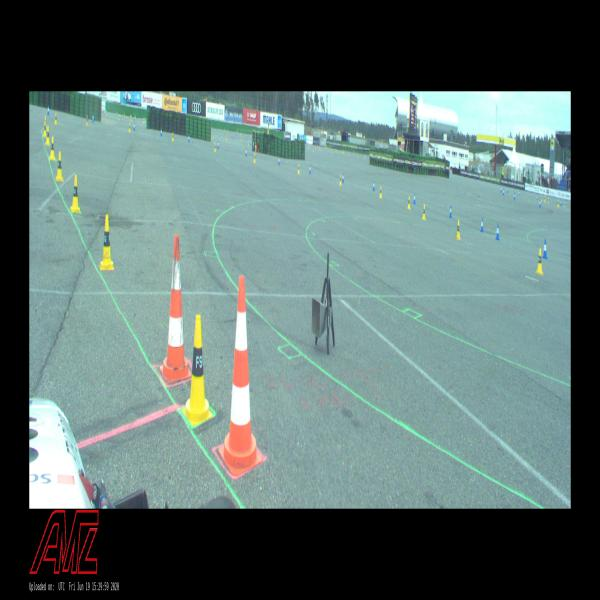blue_cone: (542, 239, 548, 258), (496, 223, 500, 240), (480, 217, 484, 232), (449, 205, 452, 217), (47, 104, 50, 115), (413, 193, 416, 204), (342, 172, 344, 183), (373, 180, 375, 191), (309, 164, 311, 174), (217, 140, 219, 150), (92, 113, 94, 123), (133, 122, 135, 131), (188, 134, 190, 143), (245, 148, 247, 157), (278, 156, 280, 165), (160, 128, 162, 136)
large_orange_cone: (218, 275, 262, 476), (160, 234, 192, 384)
yellow_cone: (182, 315, 213, 426), (100, 215, 114, 270), (71, 174, 80, 212), (55, 152, 64, 182), (536, 248, 543, 274), (49, 136, 56, 160), (45, 126, 50, 146), (456, 220, 461, 239), (422, 203, 426, 220), (43, 121, 47, 136), (407, 196, 411, 209), (54, 112, 58, 125), (379, 186, 382, 198), (339, 175, 342, 186), (297, 163, 300, 174), (85, 115, 88, 125), (214, 142, 216, 152), (129, 122, 131, 132), (254, 153, 256, 163), (172, 132, 174, 141)
